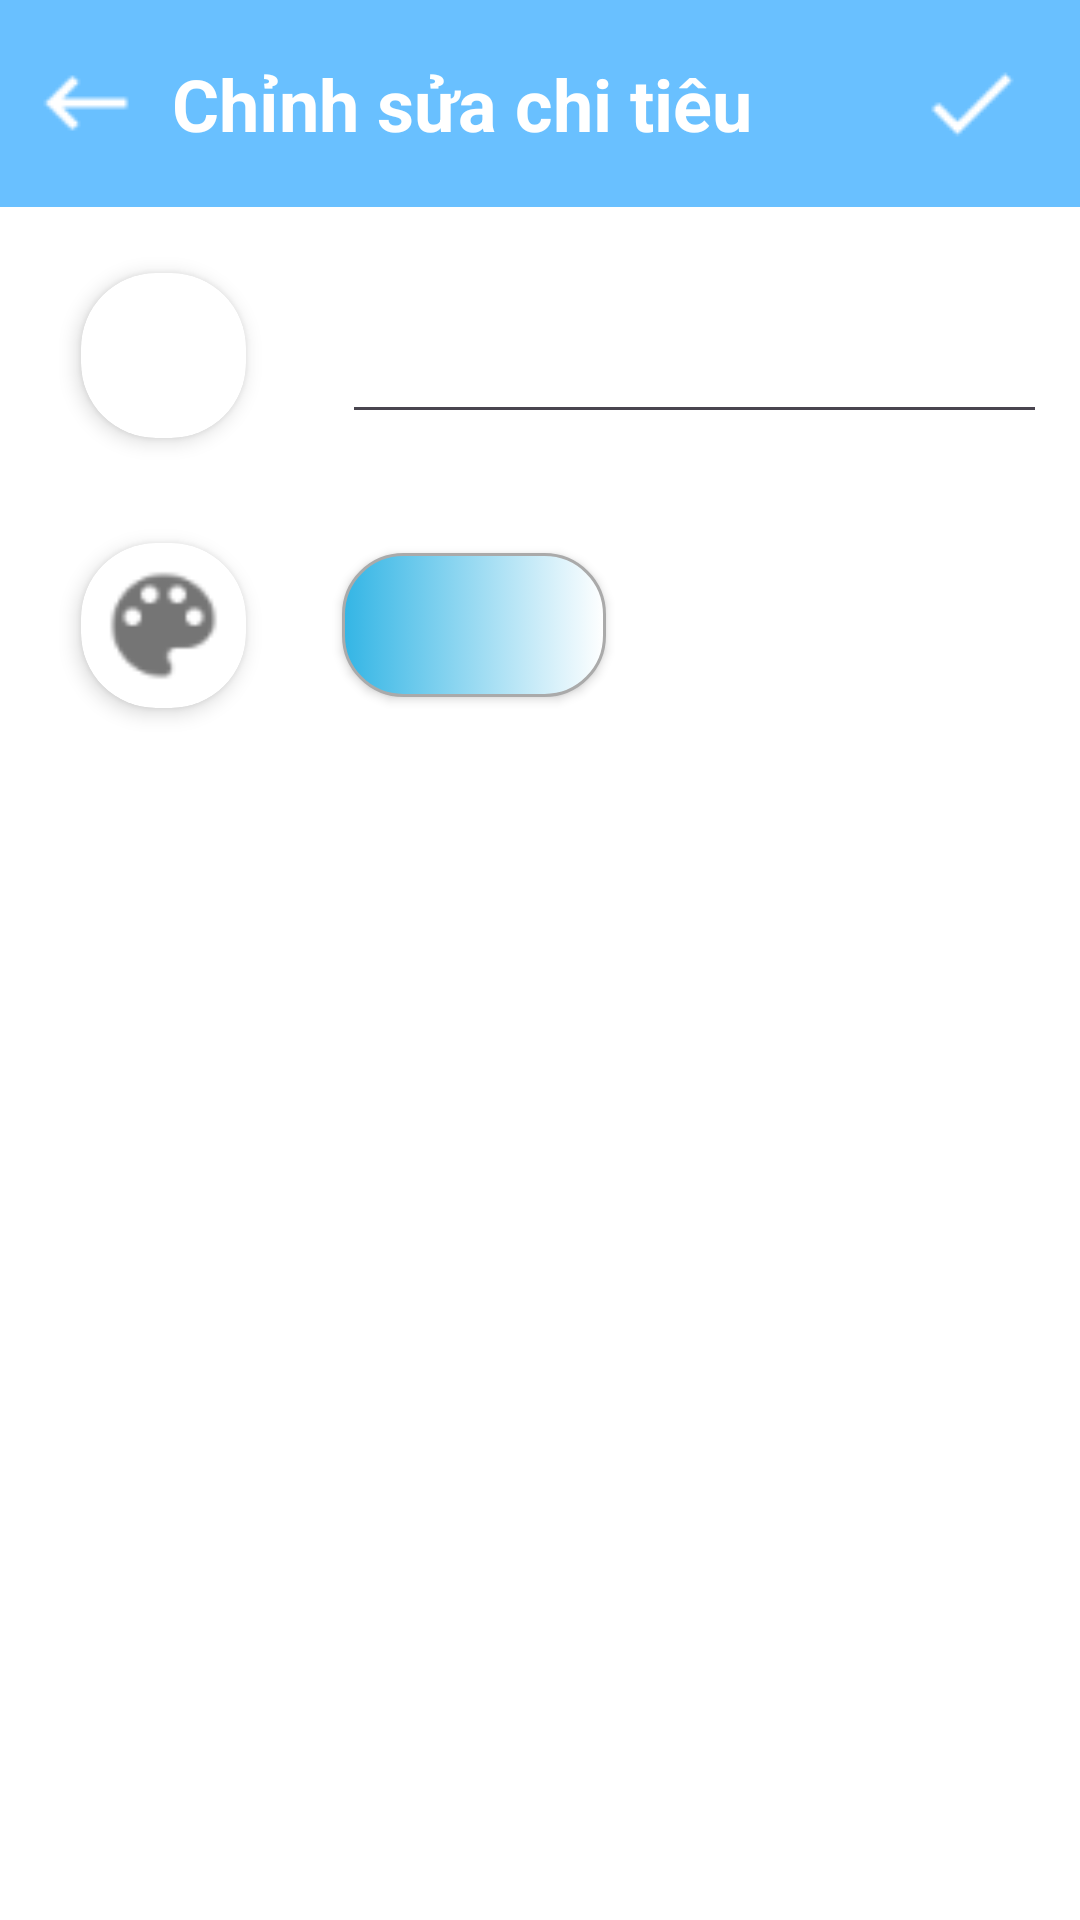

Where to tap for icons on this 1080px x 1920px app screen, as (x,y):
done: (972,104)
quaylai: (87,103)
